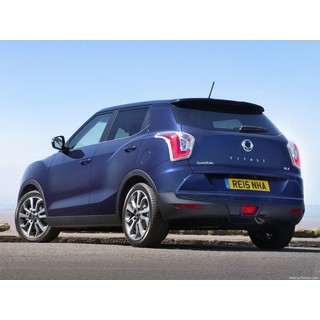car: (14, 97, 303, 243)
